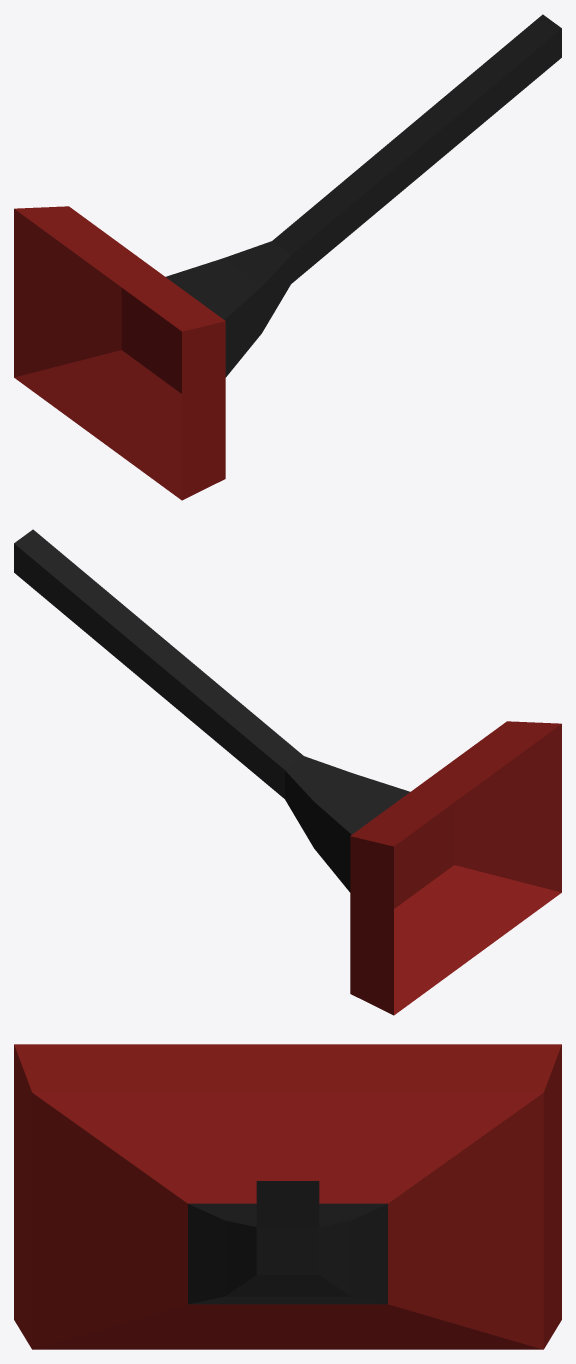
File: Vacuum.fbx
3 renders of one model, top to bottom at view 1: azimuth 30°, elevation 25°; view 2: azimuth 150°, elevation 25°; view 3: azimuth 270°, elevation 25°, orthographic. The views are drawn at different scales.
Visible parts, largest first — view 1: Cube; view 2: Cube; view 3: Cube.
Boxes of the visible parts, box(x1,y1,x2,y2) form: Cube: box(14, 14, 561, 500); Cube: box(14, 529, 561, 1015); Cube: box(14, 1044, 561, 1349).
Size of the model in its own units: 552 by 356 by 354.
